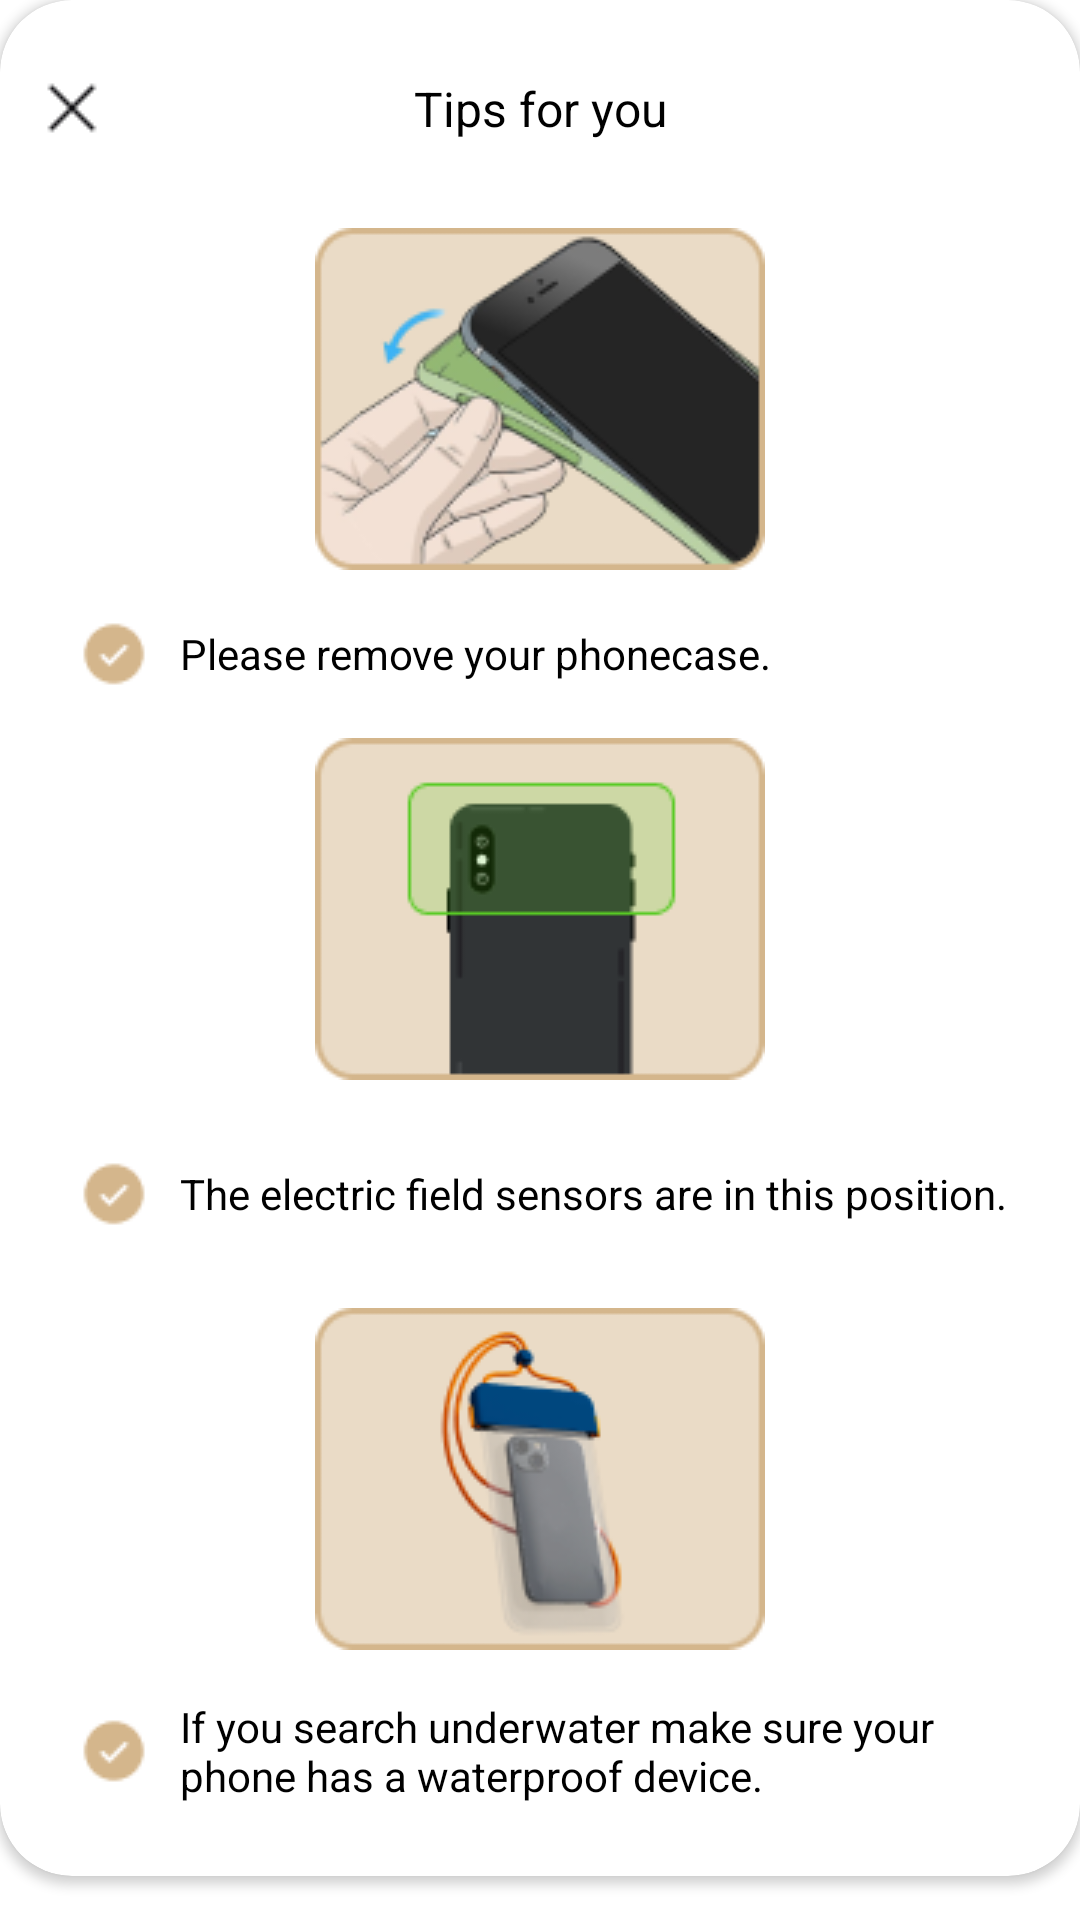

Icons on this 1080 × 1920 Android screen, each with the point to tap as point (x, y):
check circle: point (114, 654), point (114, 1194), point (114, 1751)
